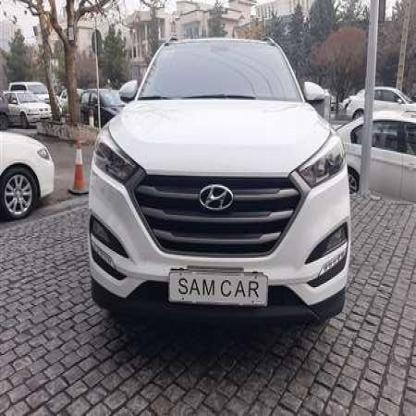Car: (89, 44, 355, 347), (331, 110, 416, 195), (0, 133, 59, 216), (347, 76, 416, 131), (80, 83, 124, 130), (5, 90, 52, 132)
